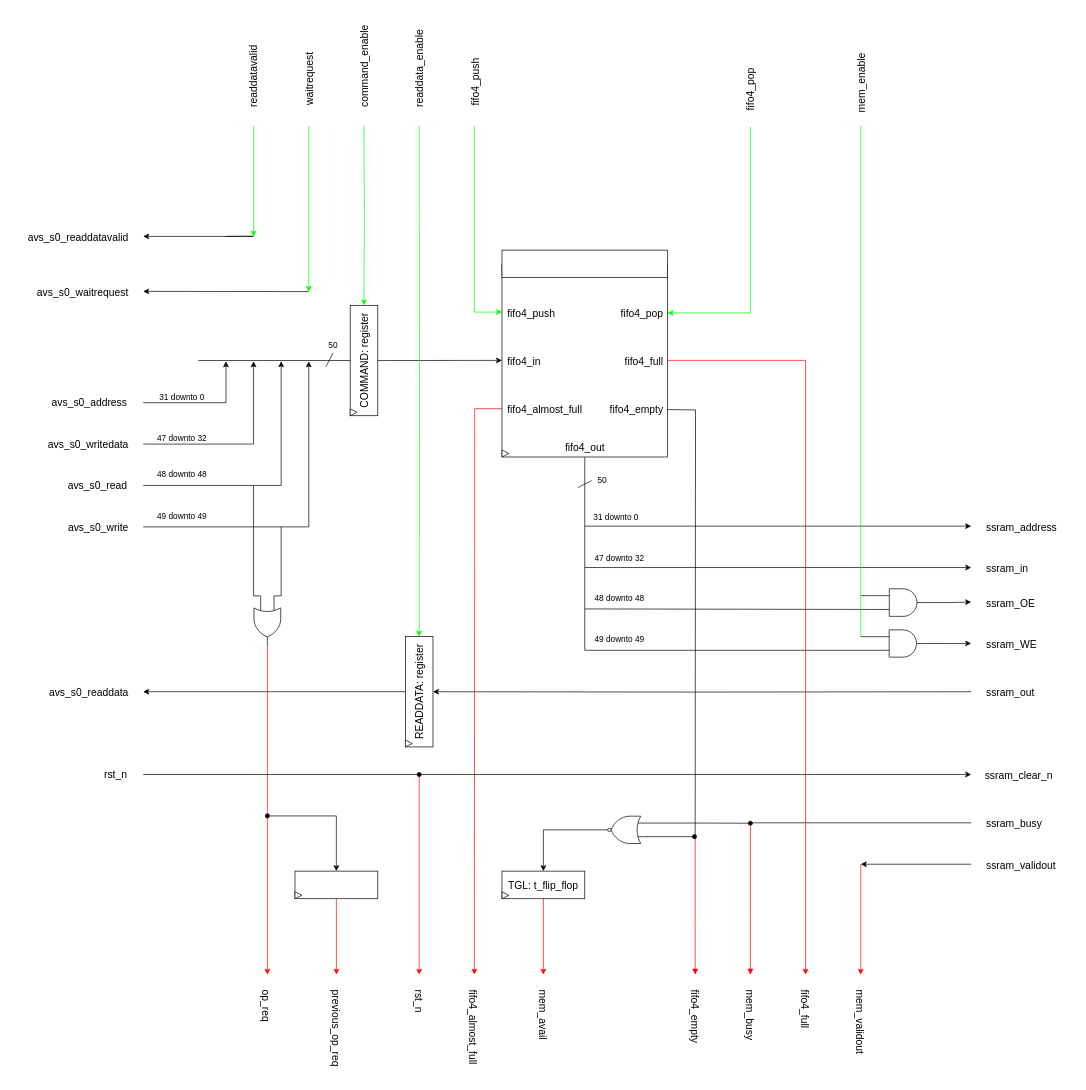
Some shapes in this 1086 by 1090 pixel diagram are drawn without their labels. The centre of each missing label's shape, as x and y in pixels:
"LOCAL_FIFO: fifo4" belongs at point 584,263.
"POR: d_flip_flop" belongs at point 336,884.
